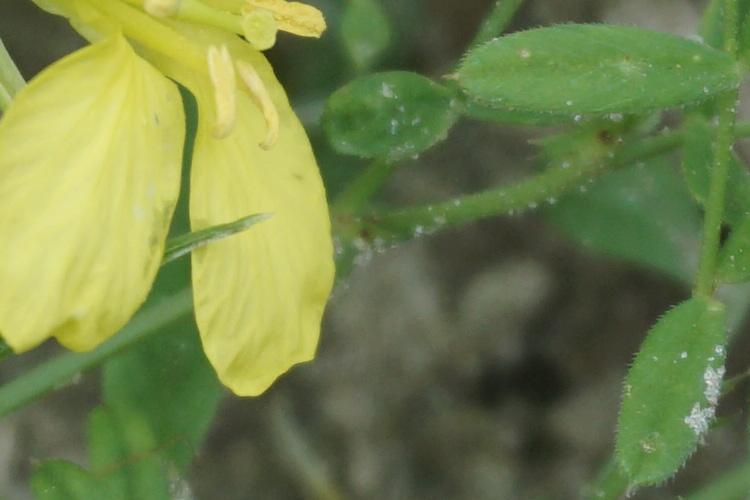yellow: (4, 4, 342, 389)
